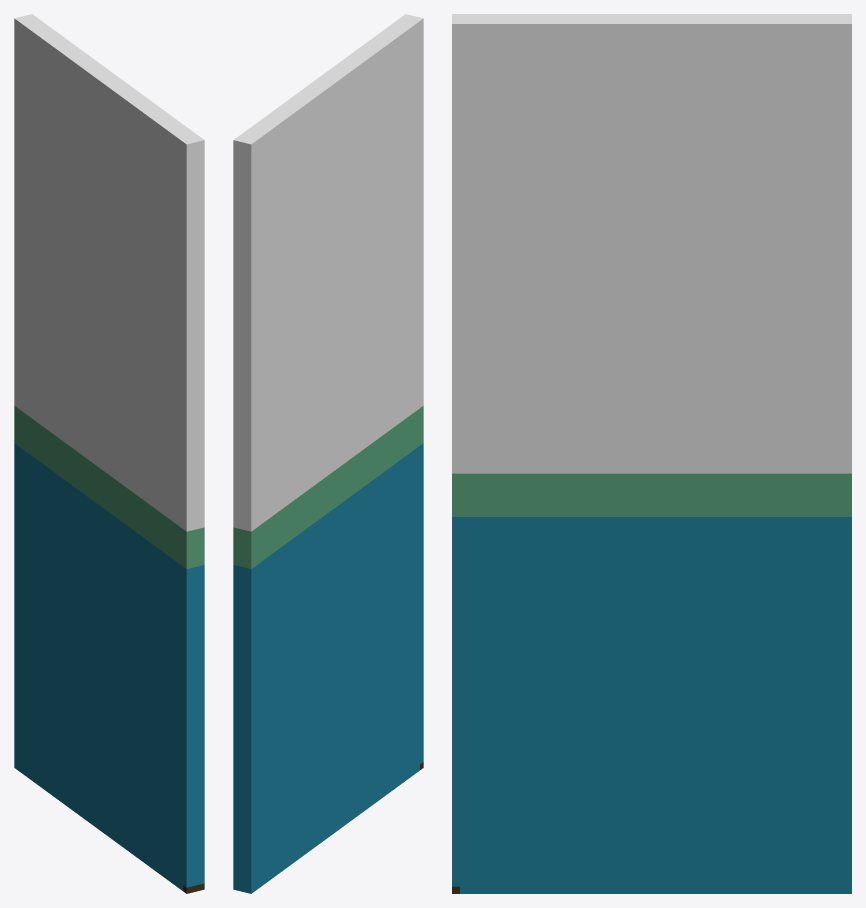
Rendered from SchoolPack-2-straight wall.obj.
3 renders of one model, left to right at view 1: azimuth 30°, elevation 25°; view 2: azimuth 150°, elevation 25°; view 3: azimuth 270°, elevation 25°, orthographic. The views are drawn at different scales.
Visible parts, largest first — view 1: straight wall; view 2: straight wall; view 3: straight wall.
Part boxes in pixels (box(x1,y1,x2,y2)): straight wall: box(14, 14, 204, 893); straight wall: box(233, 14, 423, 893); straight wall: box(452, 14, 851, 893).
Bounding box in the file's own units: 0.3 × 12 × 5.
1 material, 1 textured.
